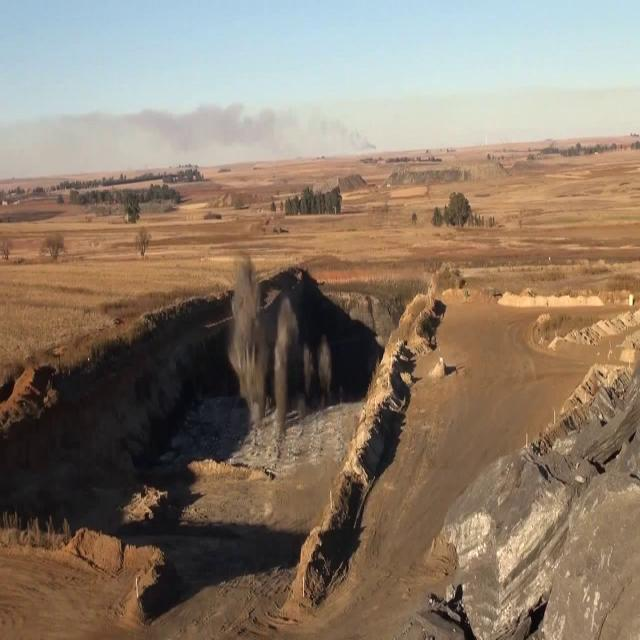explosion: (205, 206, 372, 517)
